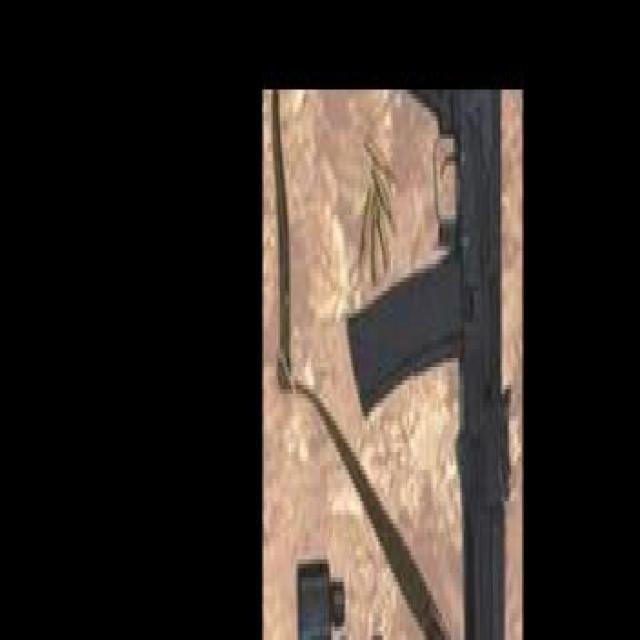weapon: (345, 93, 512, 640)
